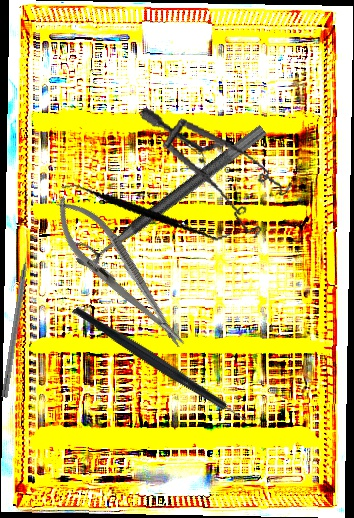Chopper: (71, 257, 264, 471)
Fixation Ring: (65, 108, 269, 274)
Hook Surgical: (1, 243, 34, 399)
Needle Holder: (40, 185, 199, 362)
Spatula Surgical: (60, 149, 232, 273)
Speculum: (122, 107, 301, 243)
